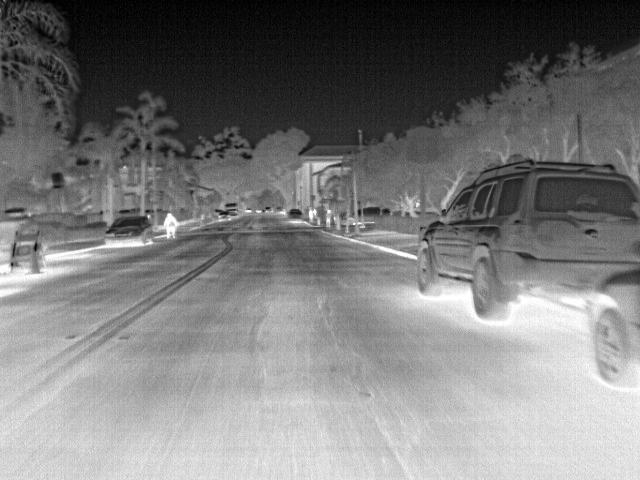car: (418, 154, 639, 322), (586, 272, 637, 384), (102, 214, 153, 248), (224, 202, 243, 220), (364, 205, 382, 224), (286, 208, 304, 223)
person: (161, 211, 179, 240)
